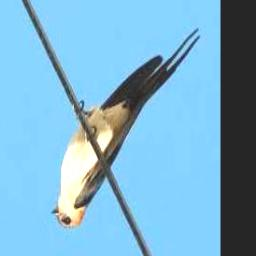Swallow: (50, 27, 201, 229)
